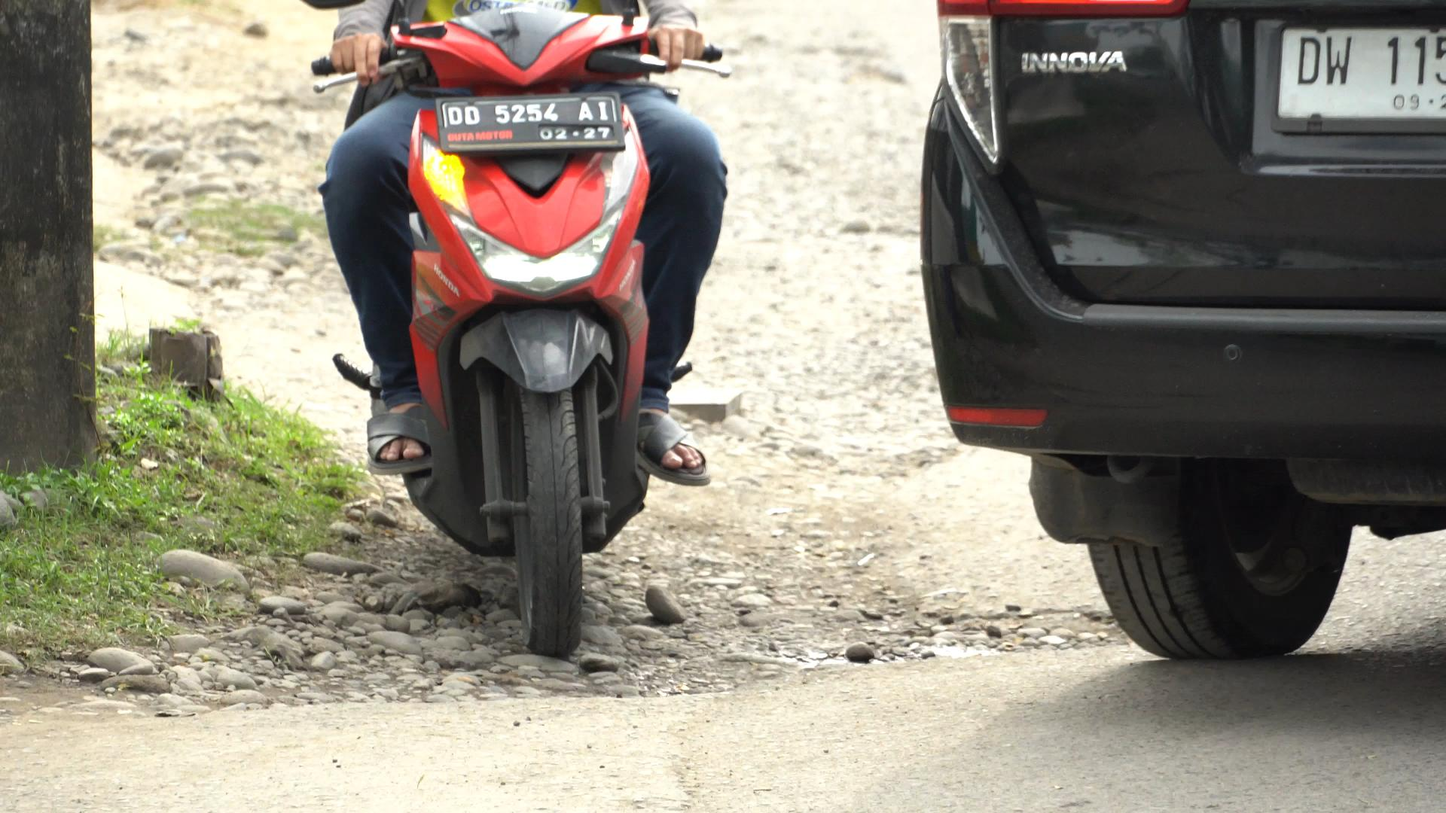number-plate: (434, 94, 627, 154)
